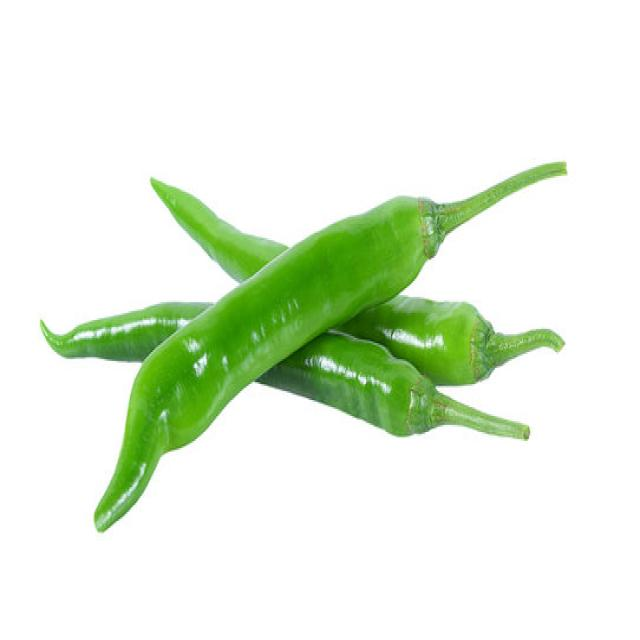Chilli: (148, 172, 564, 388), (41, 297, 532, 441), (254, 329, 530, 441), (336, 293, 564, 386), (39, 298, 214, 362)
